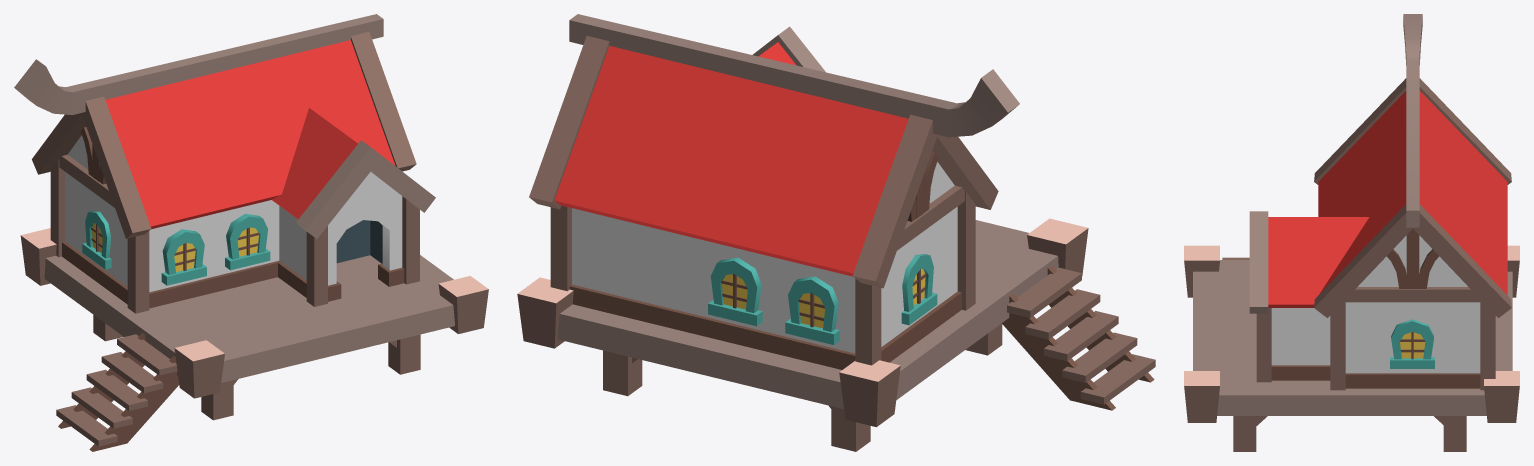
File: house_016.fbx
3 renders of one model, left to right at view 1: azimuth 30°, elevation 25°; view 2: azimuth 150°, elevation 25°; view 3: azimuth 270°, elevation 25°, orthographic. The views are drawn at different scales.
Parts seen in each view (by area): view 1: house_016; view 2: house_016; view 3: house_016.
Part boxes in pixels (left/top/right/bottom): house_016: left=14, top=14, right=488, bottom=451; house_016: left=517, top=14, right=1155, bottom=451; house_016: left=1184, top=14, right=1519, bottom=451.
Bounding box in the file's own units: 815 × 637 × 632.
2 materials, 2 textured.
